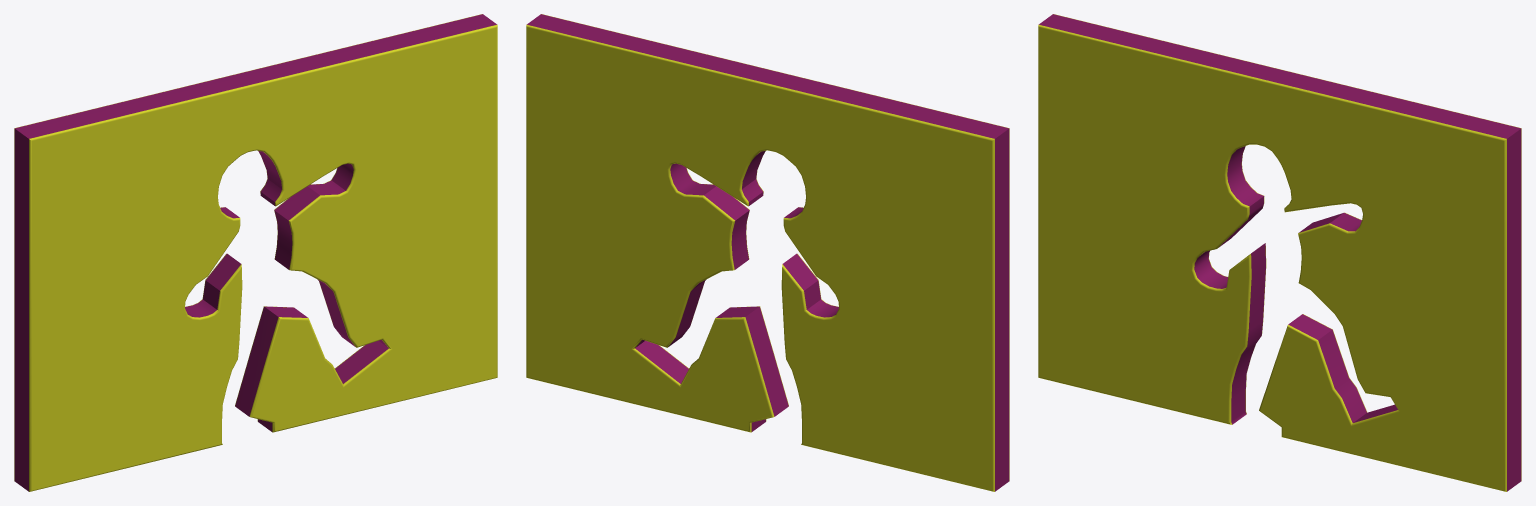
The model's file is Pose02_rootss.fbx.
The picture shows the model from 3 angles, left to right: view 1: azimuth 30°, elevation 25°; view 2: azimuth 150°, elevation 25°; view 3: azimuth 330°, elevation 25°; orthographic projection.
Visible parts, largest first — view 1: Pose02_sh_5, Pose02_sh_28, Pose02_sh_11, Pose02_sh_15, Pose02_sh_10, Pose02_sh_3, Pose02_sh_26, Pose02_sh_1, Pose02_sh_6, Pose02_sh_20, Pose02_sh_36, Pose02_sh_21 (+20 smaller); view 2: Pose02_sh_5, Pose02_sh_28, Pose02_sh_26, Pose02_sh_11, Pose02_sh_1, Pose02_sh_15, Pose02_sh_20, Pose02_sh_36, Pose02_sh_3, Pose02_sh_21, Pose02_sh_12, Pose02_sh_10 (+21 smaller); view 3: Pose02_sh_28, Pose02_sh_5, Pose02_sh_11, Pose02_sh_10, Pose02_sh_15, Pose02_sh_6, Pose02_sh_26, Pose02_sh_3, Pose02_sh_1, Pose02_sh_21, Pose02_sh_36, Pose02_sh_9 (+20 smaller).
Part boxes in pixels (<box>): Pose02_sh_5: <box>39,97,180,236</box>; Pose02_sh_28: <box>132,302,241,465</box>; Pose02_sh_11: <box>258,298,406,428</box>; Pose02_sh_15: <box>385,126,497,257</box>; Pose02_sh_10: <box>396,37,497,160</box>; Pose02_sh_3: <box>14,366,132,488</box>; Pose02_sh_26: <box>135,231,242,347</box>; Pose02_sh_1: <box>14,297,145,389</box>; Pose02_sh_6: <box>400,191,497,314</box>; Pose02_sh_20: <box>14,122,74,263</box>; Pose02_sh_36: <box>274,239,416,310</box>; Pose02_sh_21: <box>277,40,400,169</box>; Pose02_sh_5: <box>842,96,986,238</box>; Pose02_sh_28: <box>782,306,890,464</box>; Pose02_sh_26: <box>781,223,899,351</box>; Pose02_sh_11: <box>617,300,764,428</box>; Pose02_sh_1: <box>877,287,1009,393</box>; Pose02_sh_15: <box>526,124,626,253</box>; Pose02_sh_20: <box>945,122,1009,272</box>; Pose02_sh_36: <box>601,237,749,313</box>; Pose02_sh_3: <box>890,370,1009,477</box>; Pose02_sh_21: <box>624,39,749,165</box>; Pose02_sh_12: <box>735,67,878,143</box>; Pose02_sh_10: <box>526,62,624,159</box>; Pose02_sh_28: <box>1139,284,1265,424</box>; Pose02_sh_5: <box>1060,20,1187,173</box>; Pose02_sh_11: <box>1283,332,1413,459</box>; Pose02_sh_10: <box>1403,122,1521,274</box>; Pose02_sh_15: <box>1392,207,1521,331</box>; Pose02_sh_6: <box>1408,295,1521,413</box>; Pose02_sh_26: <box>1143,172,1266,290</box>; Pose02_sh_3: <box>1038,275,1140,374</box>; Pose02_sh_1: <box>1038,201,1152,301</box>; Pose02_sh_21: <box>1284,92,1414,177</box>; Pose02_sh_36: <box>1298,270,1423,364</box>; Pose02_sh_9: <box>1271,77,1372,162</box>.
Size of the model in its own units: 462 by 332 by 28.18.
